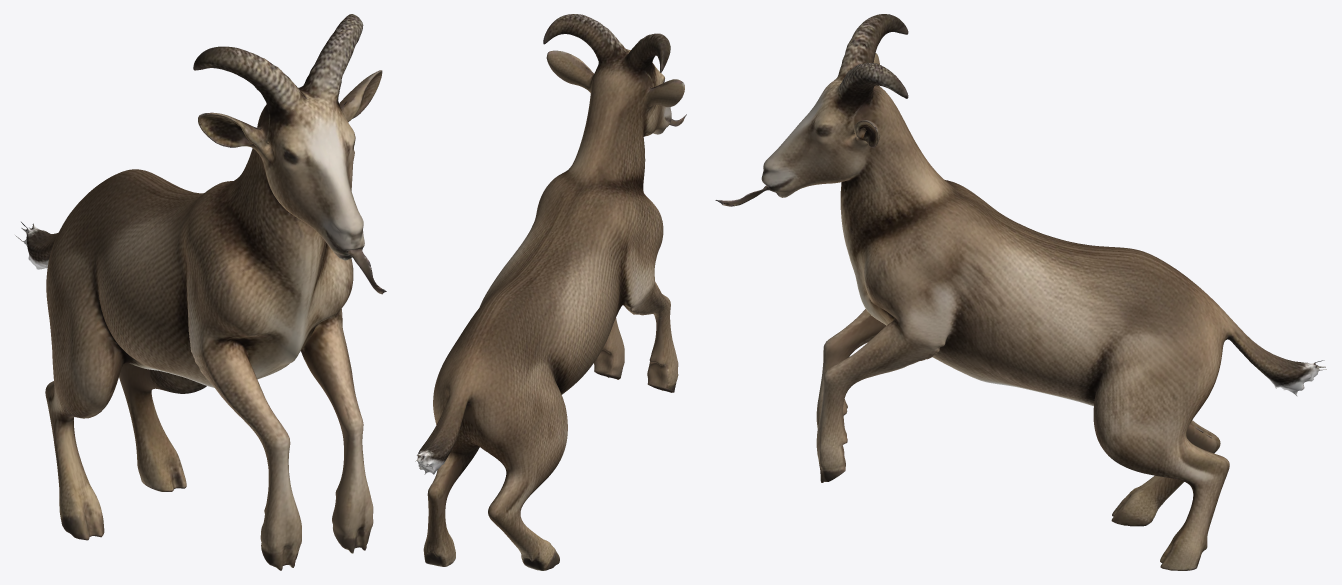
The model's file is goat_climbing.glb.
3 views of the same model, side by side, from view 1: azimuth 30°, elevation 25°; view 2: azimuth 150°, elevation 25°; view 3: azimuth 270°, elevation 25° (orthographic). The views are drawn at different scales.
Visible parts, largest first — view 1: model; view 2: model; view 3: model.
Part boxes in pixels (bbox=[...]): model: bbox=[15, 14, 386, 570]; model: bbox=[415, 14, 686, 570]; model: bbox=[715, 14, 1326, 570].
Bounding box in the file's own units: 0.5506 × 1.7 × 1.88.
Materials: 1 (1 with a texture image).
